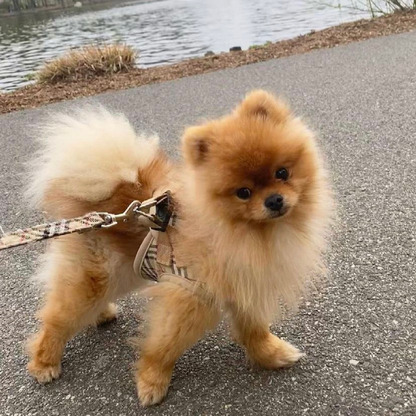Pomeranian: (38, 98, 358, 387)
